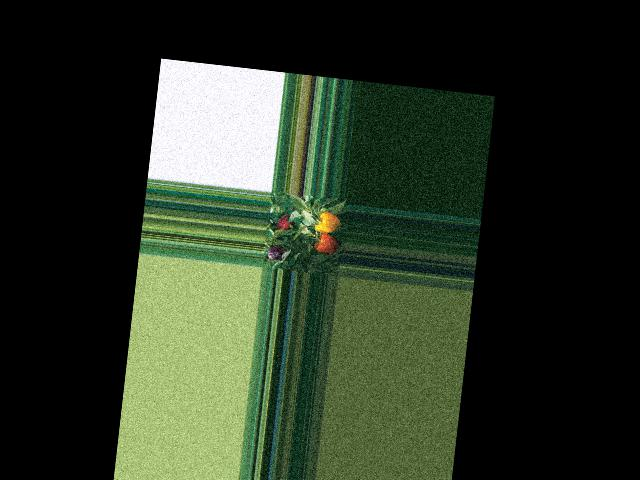bell_pepper: (312, 210, 340, 240)
